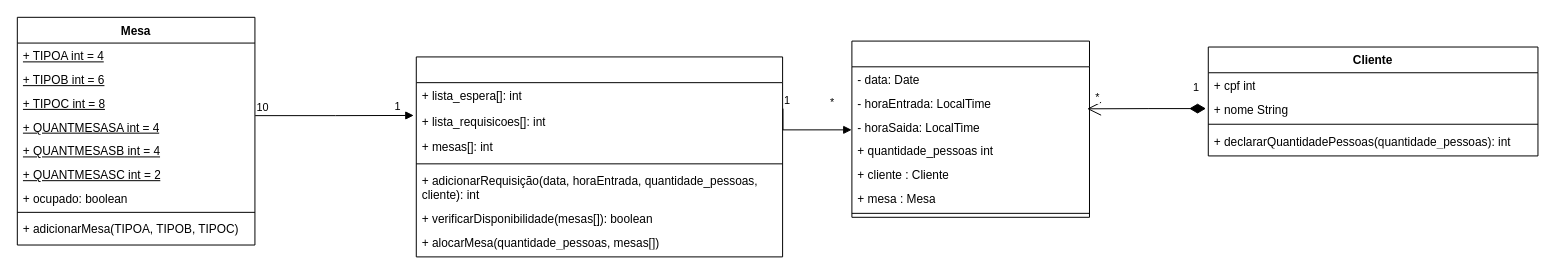
This 1555x277 diagram has some shape labels left out. The shapes that lost their labels are listed below. From the top down, each one's box as (x1, y1, x2, y2) in pixels, then its label:
(851, 40, 1089, 217): Requisições
(415, 56, 783, 257): Restaurante
